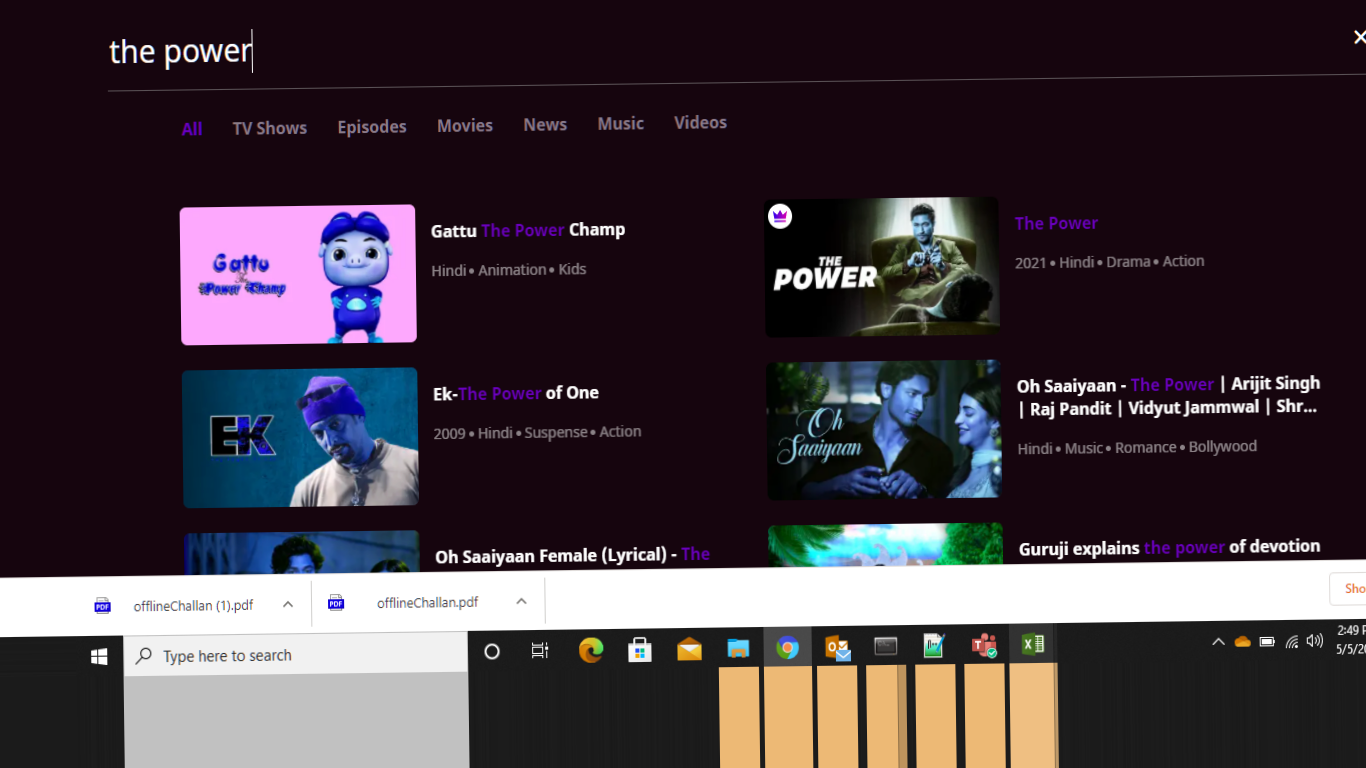searchtextbox: (98, 20, 1365, 77)
